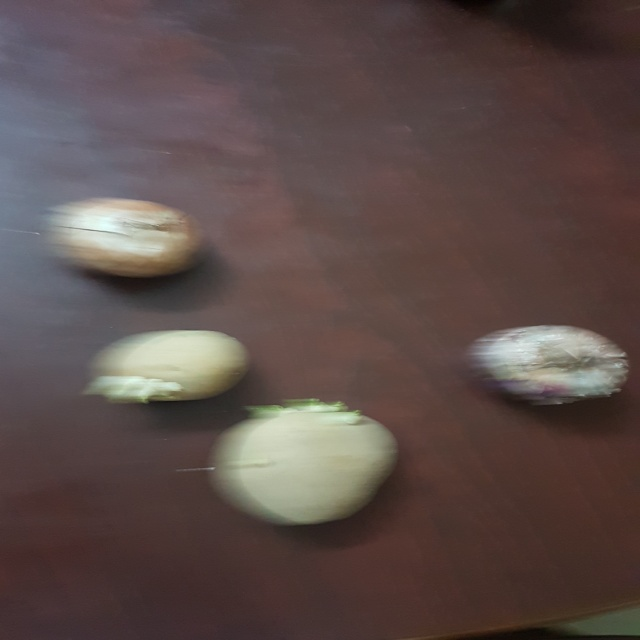onion: (463, 309, 640, 423), (48, 193, 213, 294)
potato: (204, 393, 404, 533), (88, 318, 254, 417)
